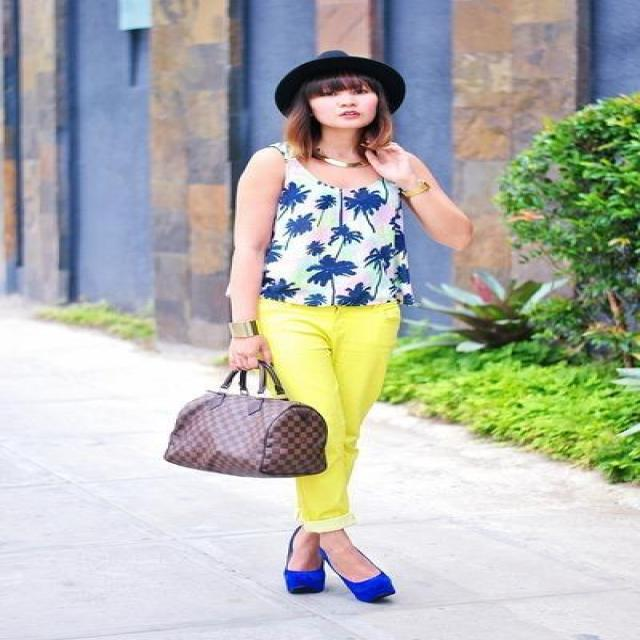bag: (163, 388, 325, 477)
hat: (275, 51, 403, 114)
pants: (259, 296, 402, 534)
shirt: (260, 143, 422, 306)
shoe: (284, 562, 394, 603)
